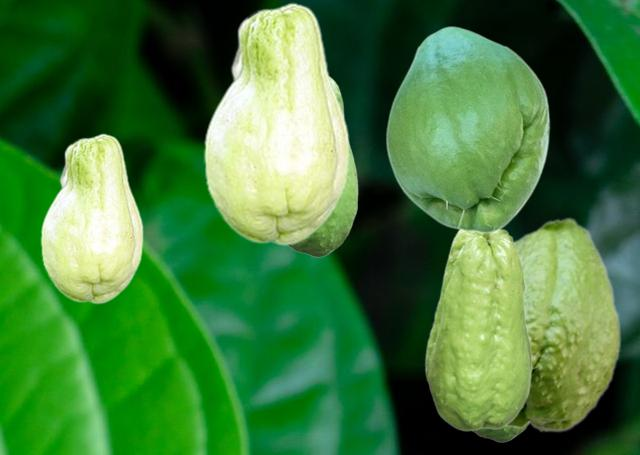sayote: (203, 2, 348, 245), (385, 26, 549, 233), (506, 216, 621, 432), (424, 228, 532, 431), (40, 133, 142, 303), (287, 77, 357, 256), (473, 427, 527, 441)
